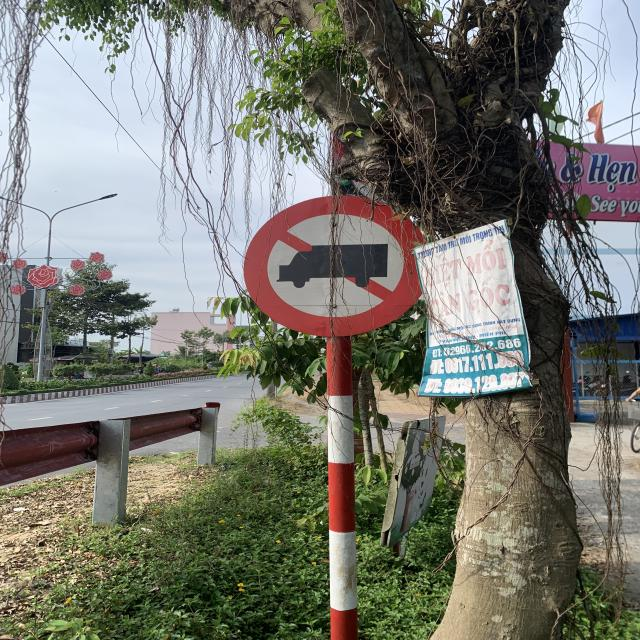Cam_Xe_Tai: (244, 190, 420, 338)
